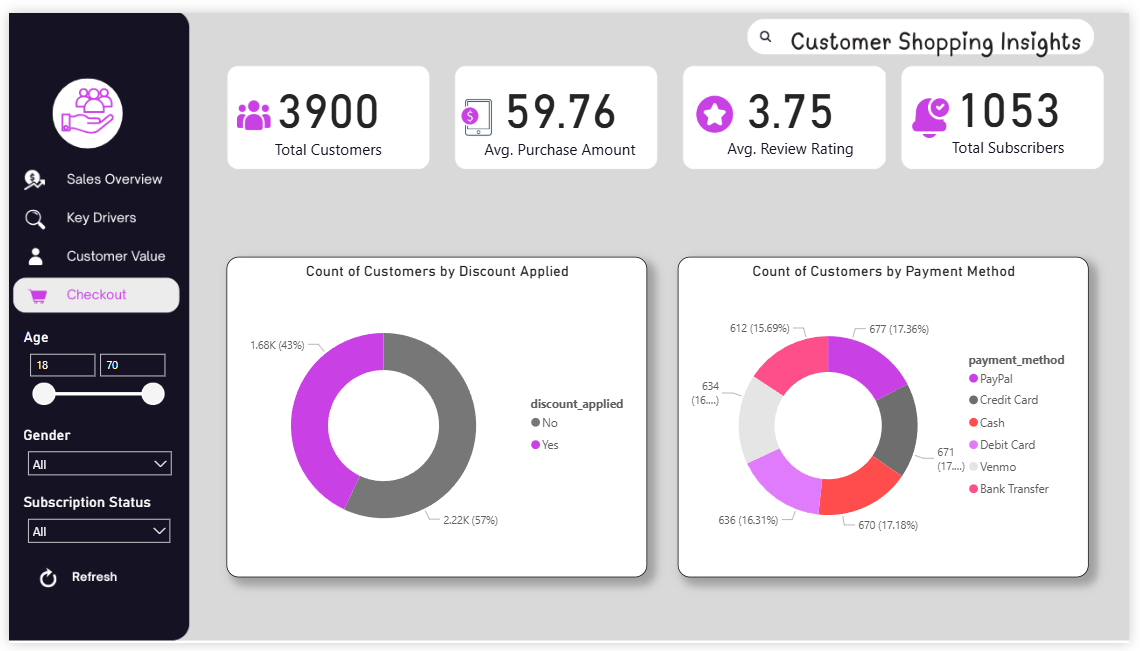

This screenshot's page, from the dashboard's own definition file:
{"tool":"powerbi","page":{"name":"Checkout","canvas":[1280,720],"ordinal":3},"visuals":[{"type":"donutChart","title":"Count of Customers by Payment Method","fields":{"Category":["customer_behavior.payment_method"],"Y":["CountNonNull(customer_behavior.customer_id)"]},"box":[764.9,278.2,469.4,366.3],"z":0},{"type":"donutChart","title":"Count of Customers by Discount Applied","fields":{"Category":["customer_behavior.discount_applied"],"Y":["CountNonNull(customer_behavior.customer_id)"]},"box":[248.4,278.2,480.6,366.3],"z":1000},{"type":"slicer","title":"Age","fields":{"Values":["customer_behavior.age"]},"box":[11,359.5,174.2,90.8],"z":2000},{"type":"slicer","title":"Gender","fields":{"Values":["customer_behavior.gender"]},"box":[11,471.2,184.1,62.6],"z":3000},{"type":"slicer","title":"Subscription Status","fields":{"Values":["customer_behavior.subscription_status"]},"box":[11,548.5,182.8,63.8],"z":4000},{"type":"card","fields":{"Values":["Avg(customer_behavior.purchase_amount)"]},"box":[521.5,66.3,217.2,108],"z":5000},{"type":"card","fields":{"Values":["Avg(customer_behavior.review_rating)"]},"box":[785.3,66.3,216,106.7],"z":6000},{"type":"card","title":"Total Customers","fields":{"Values":["CountNonNull(customer_behavior.customer_id)"]},"box":[258.9,66.3,213.5,108],"z":7000},{"type":"card","fields":{"Values":["CountNonNull(customer_behavior.customer_id)"]},"box":[1040.5,63.8,204.9,106.7],"z":8000},{"type":"image","box":[249.1,93.3,62.6,47.9],"z":9000},{"type":"image","box":[503.1,93.3,61.4,52.8],"z":10000},{"type":"image","box":[775.5,85.9,61.4,60.1],"z":11000},{"type":"image","box":[1020.9,90.8,61.4,57.7],"z":12000}]}

Visuals, with their boxes in screenshot pixels (x1, y1, x2, y2), scaled from the page's 1280x720 canvas onto the 1140x651 screenshot:
"Count of Customers by Payment Method" donutChart: [681, 252, 1099, 583]
"Count of Customers by Discount Applied" donutChart: [221, 252, 649, 583]
"Age" slicer: [10, 325, 165, 407]
"Gender" slicer: [10, 426, 174, 483]
"Subscription Status" slicer: [10, 496, 173, 554]
card - Avg(customer_behavior.purchase_amount): [464, 60, 658, 158]
card - Avg(customer_behavior.review_rating): [699, 60, 892, 156]
"Total Customers" card: [231, 60, 421, 158]
card - CountNonNull(customer_behavior.customer_id): [927, 58, 1109, 154]
image: [222, 84, 278, 128]
image: [448, 84, 503, 132]
image: [691, 78, 745, 132]
image: [909, 82, 964, 134]
